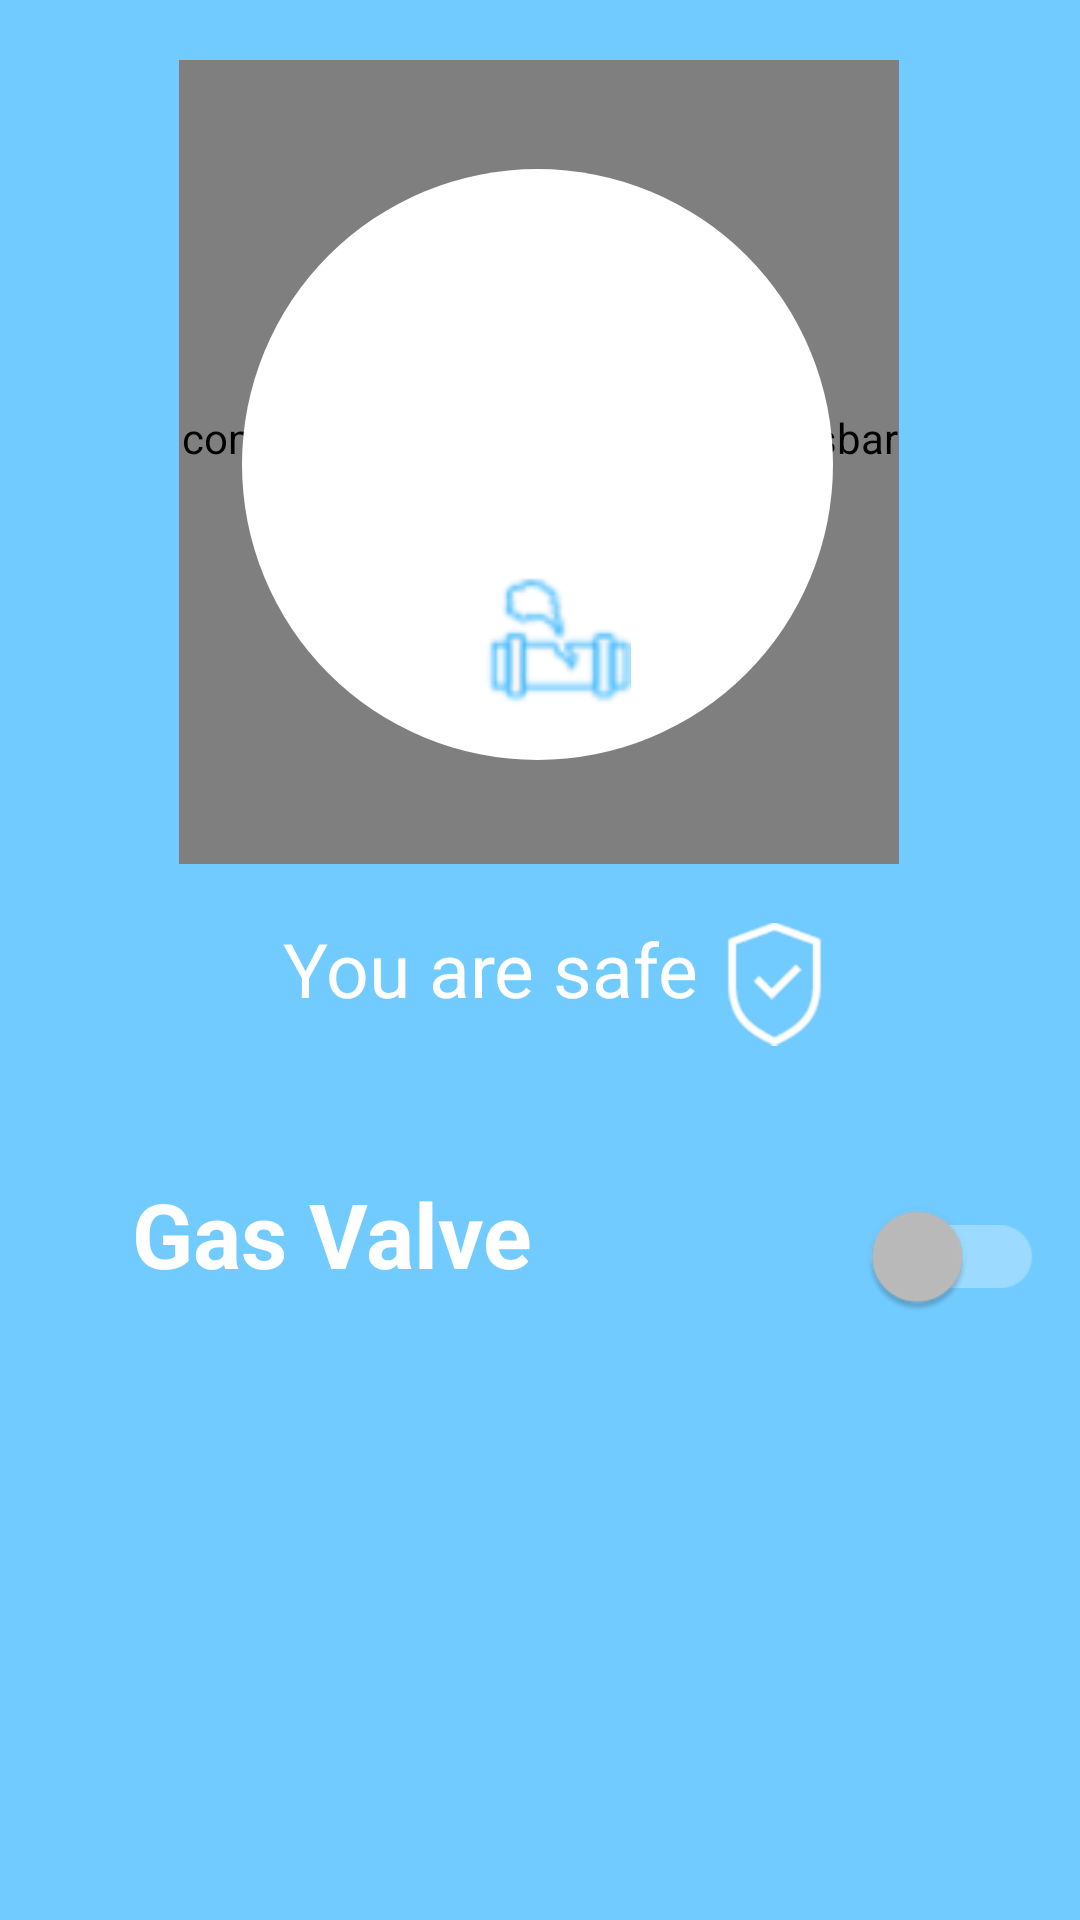

Screen size 1080px×1920px. Icon name, then its center in pixels as (x,y):
gasleak: (560,639)
